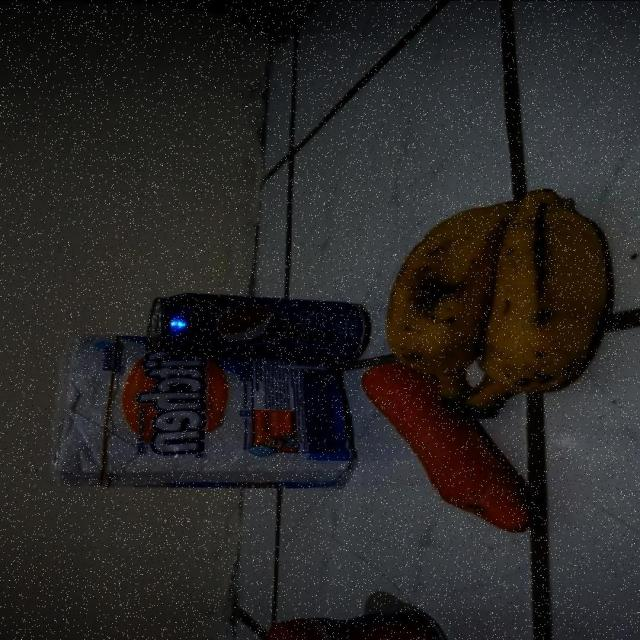Banana: (384, 195, 617, 409)
Carrot: (378, 415, 559, 531)
Napkin: (55, 369, 349, 490)
SodaCan: (149, 290, 364, 362)
Yeast: (267, 614, 459, 640)
